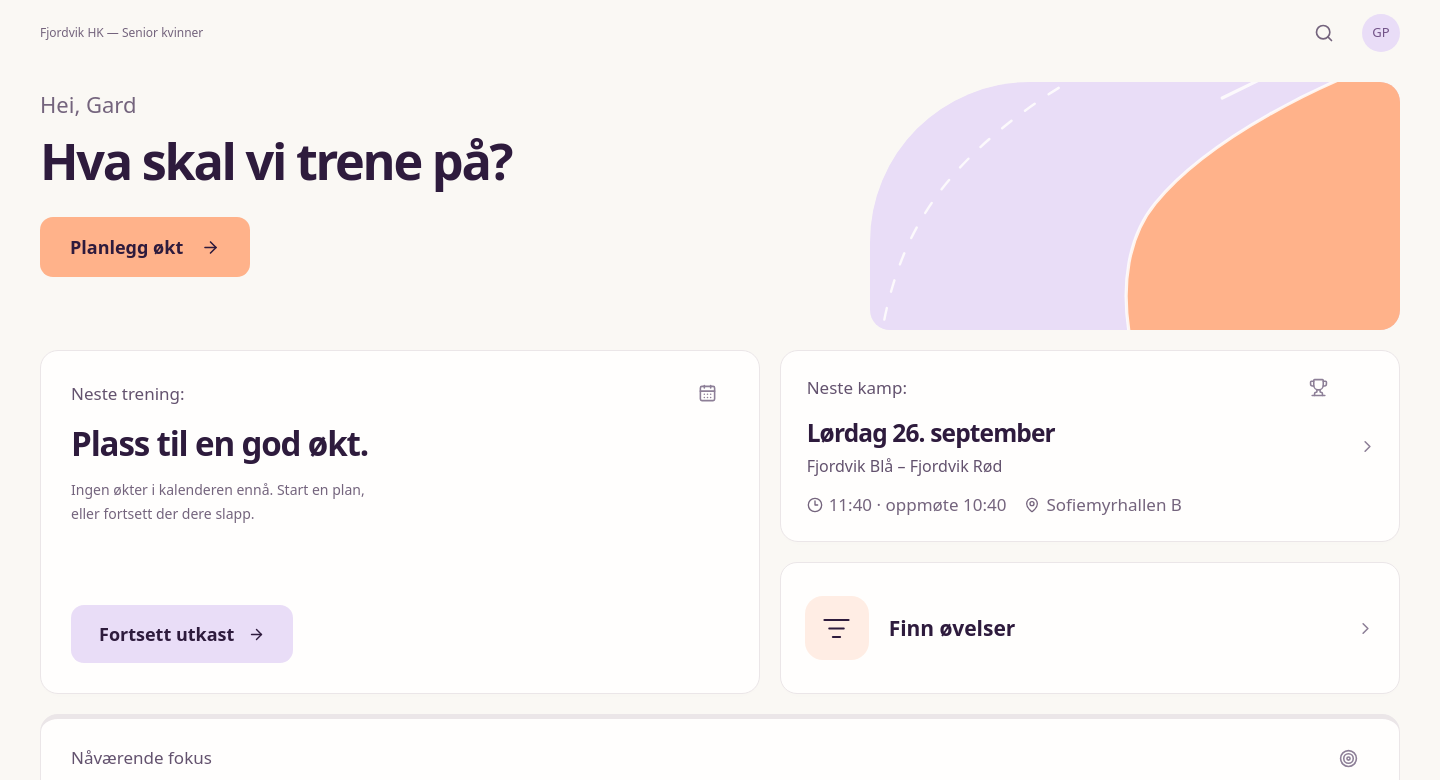
Test case: Oversikt › shows creation failure and allows retry
Click the button "Planlegg økt".
click(145, 248)  # box 40,218 -> 250,278
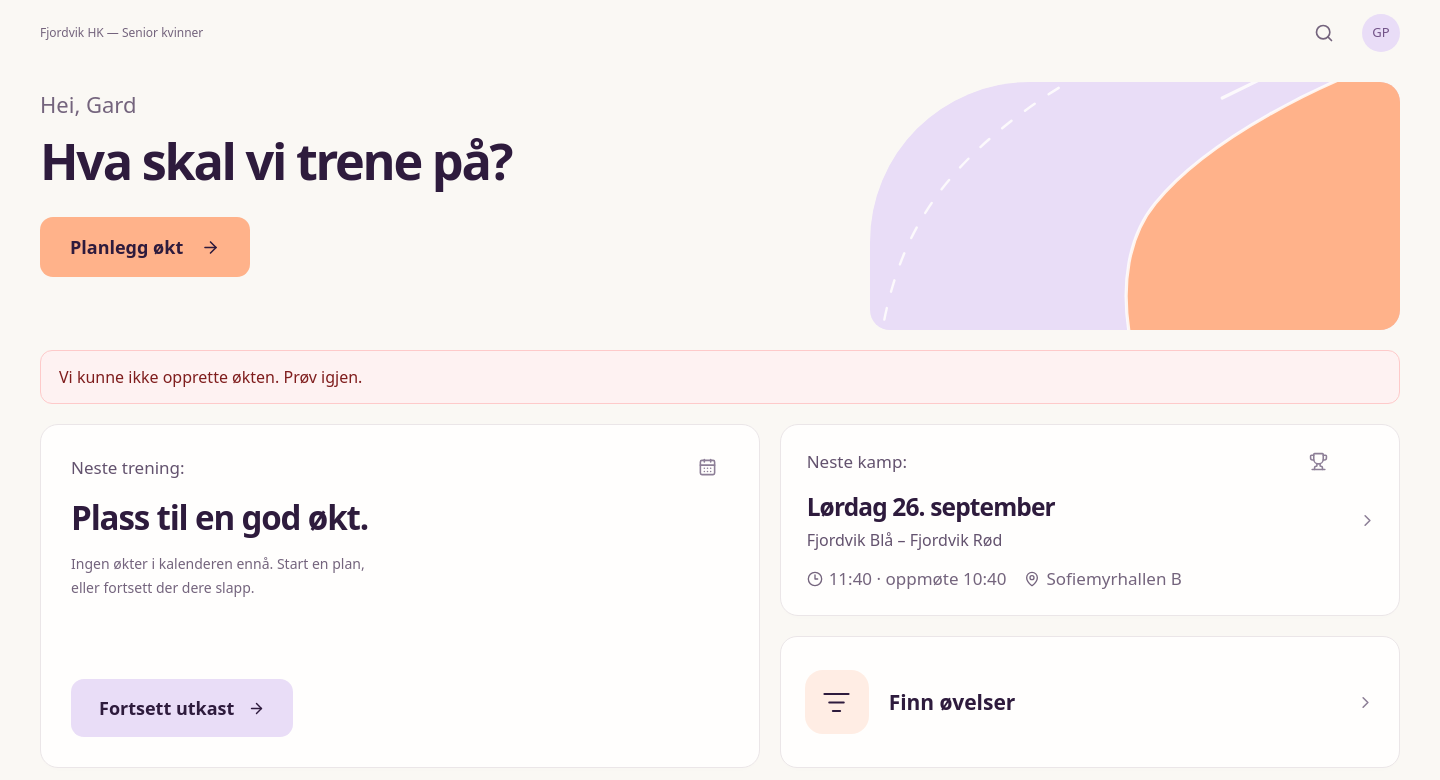
expect the message shows "Prøv igjen": met, box 59,366 -> 362,388
